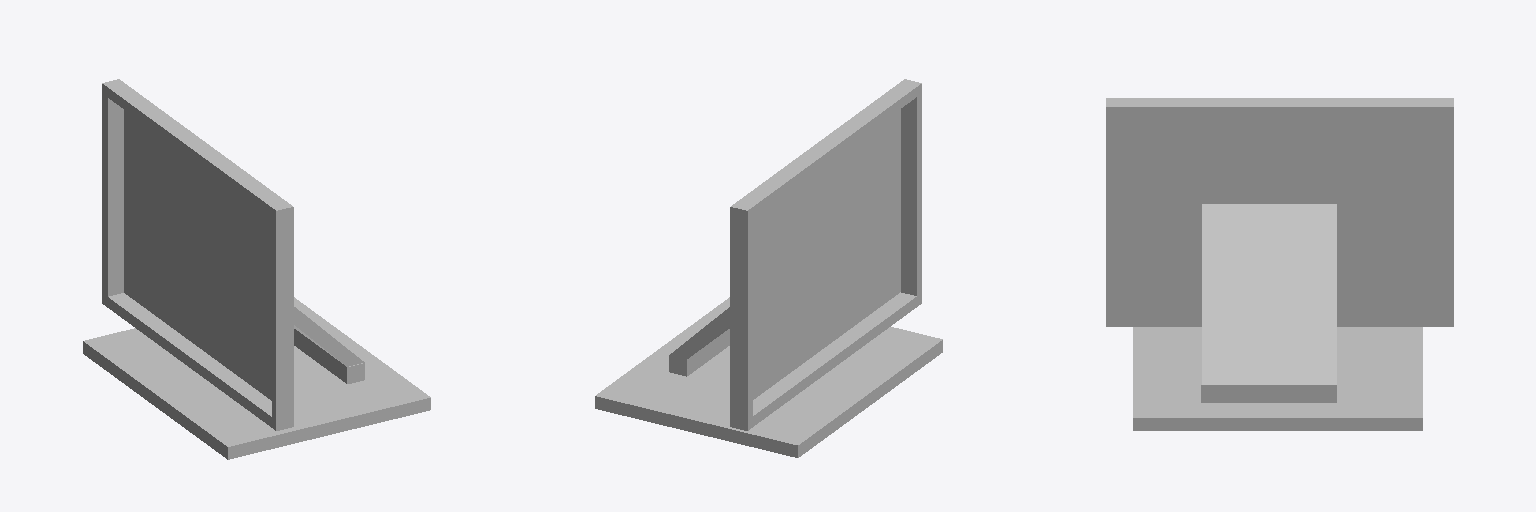
The model's file is monitor1.obj.
3 views of the same model, side by side, from view 1: azimuth 30°, elevation 25°; view 2: azimuth 150°, elevation 25°; view 3: azimuth 270°, elevation 25° (orthographic).
Visible parts, largest first — view 1: Mesh2 Model, Mesh1 Model; view 2: Mesh2 Model, Mesh1 Model; view 3: Mesh2 Model, Mesh1 Model.
Part boxes in pixels (x1,y1,x2,y2): Mesh2 Model: (102, 79, 293, 430); Mesh1 Model: (83, 297, 430, 459); Mesh2 Model: (730, 79, 921, 430); Mesh1 Model: (595, 297, 942, 457); Mesh2 Model: (1106, 98, 1453, 326); Mesh1 Model: (1133, 204, 1422, 430).
Size of the model in its own units: 5.68 by 6.68 by 8.44.